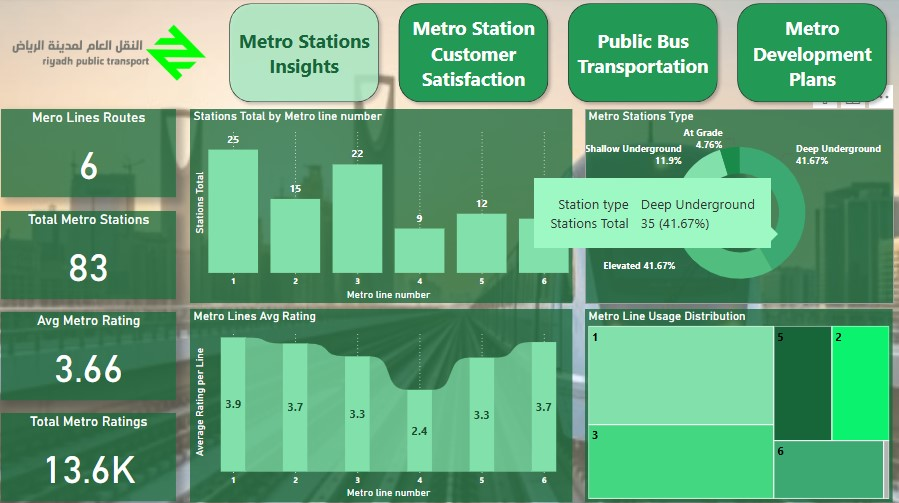

The dashboard page shown, as its layout file describes it:
{"tool":"powerbi","page":{"name":"Metro Stations Insights","canvas":[1280,720],"ordinal":1},"visuals":[{"type":"columnChart","fields":{"Category":["Riyadh Metro Lines 2024.Index"],"Y":["__Measures.Stations Total"]},"box":[275.3,159.1,541.7,275.3],"z":0},{"type":"card","title":"Mero Lines Routes","fields":{"Values":["Count(Merge1.Metro line number)"]},"box":[7.2,159.1,248.5,125.1],"z":1000},{"type":"donutChart","title":"Metro Stations Type","fields":{"Category":["Riyadh Metro lines and stations Details 2024.Station type"],"Y":["__Measures.Stations Total"]},"box":[834.9,159.1,438,275.3],"z":2000},{"type":"card","title":"Avg Metro Rating","fields":{"Values":["__Measures.Total Avg Rating"]},"box":[7.2,446.3,248.5,125.1],"z":3000},{"type":"ribbonChart","title":"Metro Lines Avg Rating","fields":{"Category":["Merge1.Metro line number"],"Y":["__Measures.Average Rating per Line"]},"box":[275.3,441.6,541.7,273.5],"z":4000},{"type":"image","box":[0,0,321.1,158.4],"z":5000},{"type":"treemap","title":"Metro Line Usage Distribution","fields":{"Group":["Merge1.Metro line number"],"Values":["Sum(Merge1.Metro Stations Rating.Total Ratings)"]},"box":[834.9,441.6,436.2,273.5],"z":6000},{"type":"card","title":"Total Metro Stations","fields":{"Values":["__Measures.Stations Total"]},"box":[7.2,302.7,248.5,125.1],"z":8000},{"type":"card","title":"Total Metro Ratings","fields":{"Values":["Sum(Metro Stations Rating.Total Ratings)"]},"box":[7.2,589.9,248.5,125.1],"z":9000},{"type":"pageNavigator","box":[321.1,0,950.4,158.4],"z":10000}]}

Visuals, with their boxes in screenshot pixels (x1, y1, x2, y2), scaled from the page's 1280x720 canvas onto the 899x503 screenshot:
columnChart - Riyadh Metro Lines 2024.Index x __Measures.Stations Total: x1=193, y1=111, x2=574, y2=303
"Mero Lines Routes" card: x1=5, y1=111, x2=180, y2=199
"Metro Stations Type" donutChart: x1=586, y1=111, x2=894, y2=303
"Avg Metro Rating" card: x1=5, y1=312, x2=180, y2=399
"Metro Lines Avg Rating" ribbonChart: x1=193, y1=309, x2=574, y2=500
image: x1=0, y1=0, x2=226, y2=111
"Metro Line Usage Distribution" treemap: x1=586, y1=309, x2=893, y2=500
"Total Metro Stations" card: x1=5, y1=211, x2=180, y2=299
"Total Metro Ratings" card: x1=5, y1=412, x2=180, y2=500
pageNavigator: x1=226, y1=0, x2=893, y2=111
